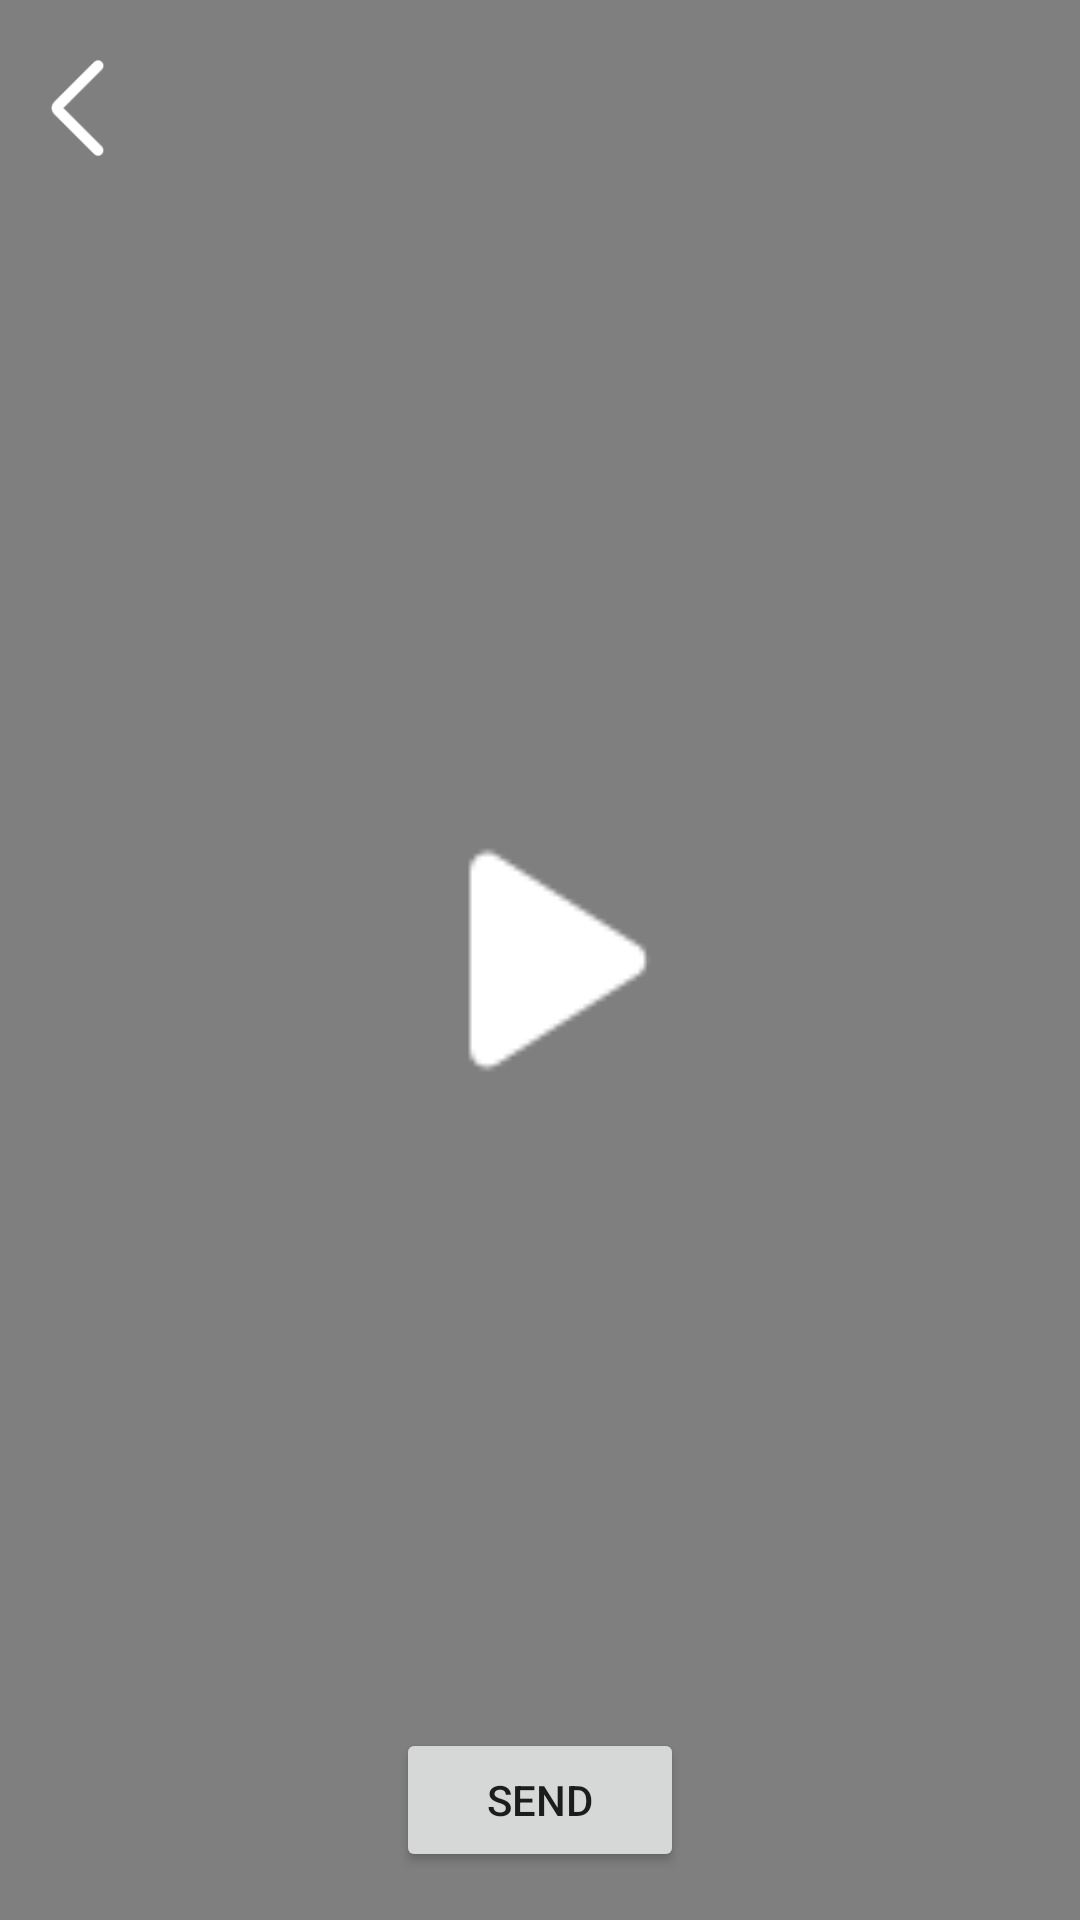

Icon bounding boxes for this 1080 x 1920 phone screenshot, format rect(x1, y1, x2, y2):
back arrow: rect(51, 60, 104, 156)
play: rect(468, 850, 647, 1070)
